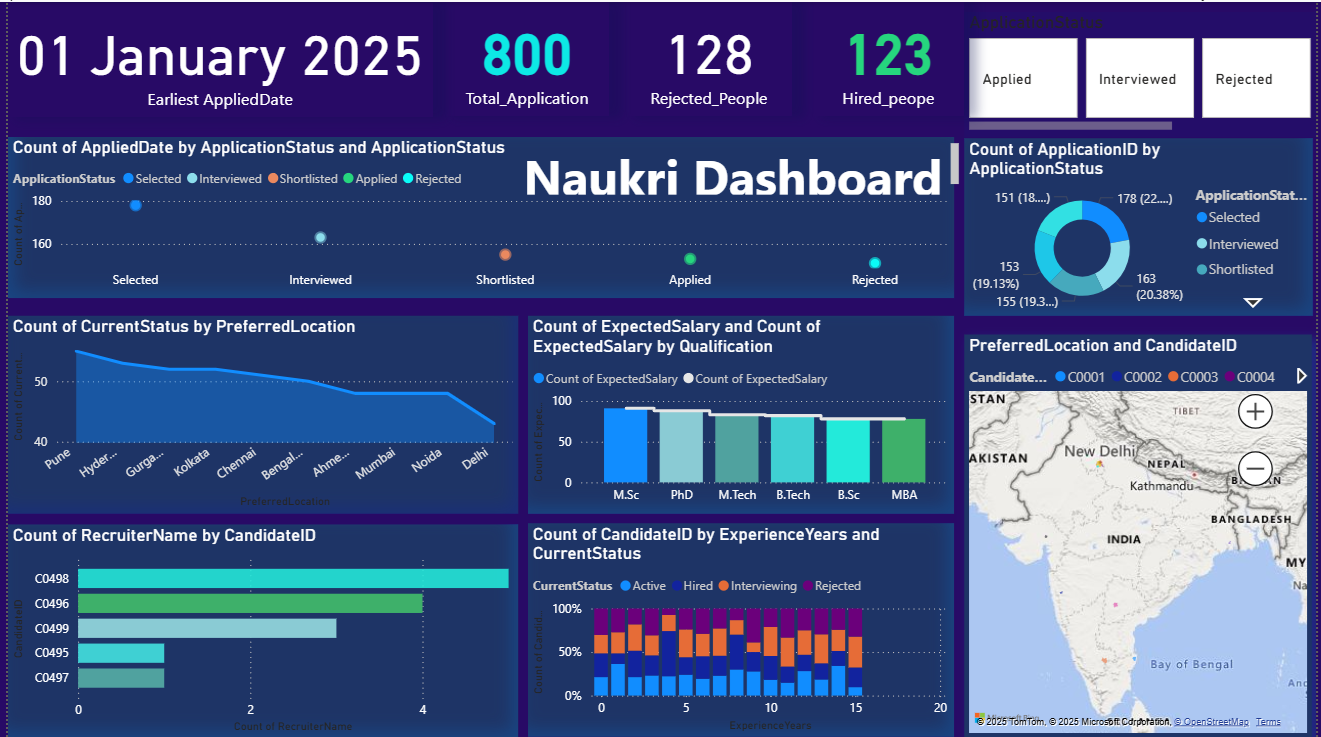

The dashboard page shown, as its layout file describes it:
{"tool":"powerbi","page":{"name":"Page 1","canvas":[1280,720],"ordinal":0},"visuals":[{"type":"lineChart","fields":{"Category":["Application.ApplicationStatus"],"Y":["Application.AppliedDate"],"Series":["Application.ApplicationStatus"]},"box":[0,132.1,925.7,157.7],"z":0},{"type":"stackedAreaChart","fields":{"Category":["Job.PreferredLocation"],"Y":["Job.CurrentStatus"]},"box":[0,306.9,498.9,193.2],"z":1000},{"type":"donutChart","fields":{"Category":["Application.ApplicationStatus"],"Y":["Application.ApplicationID"]},"box":[935.5,133.3,341.2,173.6],"z":2000},{"type":"barChart","fields":{"Y":["Application.RecruiterName"],"Category":["Application.CandidateID"]},"box":[0,511.1,498.9,209.1],"z":3000},{"type":"lineStackedColumnComboChart","fields":{"Category":["candidate.Qualification"],"Y":["candidate.ExpectedSalary"],"Y2":["Job.ExpectedSalary"]},"box":[508.7,306.9,417,193.2],"z":4000},{"type":"hundredPercentStackedColumnChart","fields":{"Category":["Job.ExperienceYears"],"Series":["Job.CurrentStatus"],"Y":["candidate.CandidateID"]},"box":[509.1,510.5,417.2,208.6],"z":5000},{"type":"textbox","box":[499.5,133.1,436.4,60.4],"z":6000},{"type":"advancedSlicerVisual","fields":{"Values":["Application.ApplicationStatus"]},"box":[935.5,9.8,344.8,122.3],"z":7000},{"type":"card","fields":{"Values":["Application.AppliedDate"]},"box":[0,1.2,415.8,111.3],"z":8000},{"type":"card","fields":{"Values":["Application.Total_Application"]},"box":[428,0,160.2,111.3],"z":9000},{"type":"card","fields":{"Values":["candidate.Rejected_People"]},"box":[605.3,0,161.4,111.3],"z":10000},{"type":"card","fields":{"Values":["candidate.Hired_peope"]},"box":[787.5,0,148,111.3],"z":11000},{"type":"filledMap","fields":{"Category":["candidate.PreferredLocation"],"Series":["candidate.CandidateID"]},"box":[935.5,325.3,339.9,395],"z":12000}]}

Visuals, with their boxes in screenshot pixels (x1, y1, x2, y2), scaled from the page's 1280x720 canvas onto the 1321x737 screenshot:
lineChart - Application.ApplicationStatus x Application.AppliedDate: <bbox>0, 135, 955, 297</bbox>
stackedAreaChart - Job.PreferredLocation x Job.CurrentStatus: <bbox>0, 314, 515, 512</bbox>
donutChart - Application.ApplicationStatus x Application.ApplicationID: <bbox>965, 136, 1318, 314</bbox>
barChart - Application.RecruiterName x Application.CandidateID: <bbox>0, 523, 515, 736</bbox>
lineStackedColumnComboChart - candidate.Qualification x candidate.ExpectedSalary: <bbox>525, 314, 955, 512</bbox>
hundredPercentStackedColumnChart - Job.ExperienceYears x Job.CurrentStatus: <bbox>525, 523, 956, 736</bbox>
textbox: <bbox>515, 136, 966, 198</bbox>
advancedSlicerVisual - Application.ApplicationStatus: <bbox>965, 10, 1320, 135</bbox>
card - Application.AppliedDate: <bbox>0, 1, 429, 115</bbox>
card - Application.Total_Application: <bbox>442, 0, 607, 114</bbox>
card - candidate.Rejected_People: <bbox>625, 0, 791, 114</bbox>
card - candidate.Hired_peope: <bbox>813, 0, 965, 114</bbox>
filledMap - candidate.PreferredLocation x candidate.CandidateID: <bbox>965, 333, 1316, 736</bbox>
